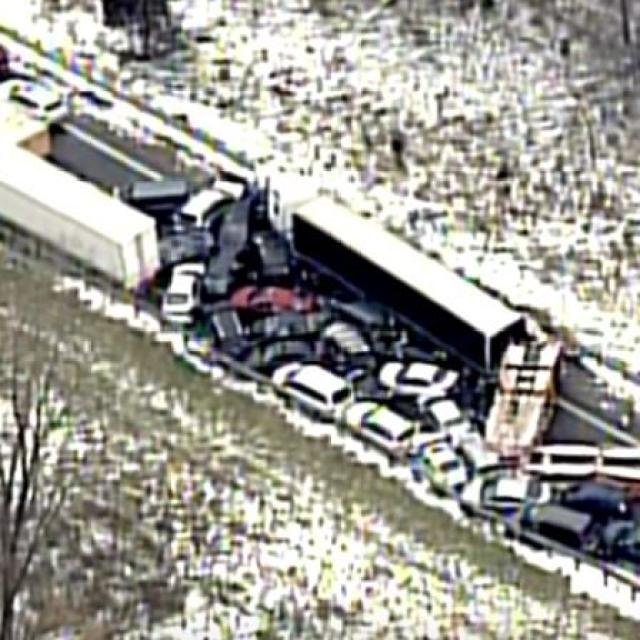traffic_incident: (154, 156, 603, 501)
